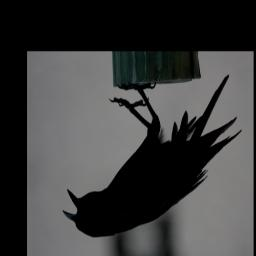Crow: (57, 72, 246, 242)
